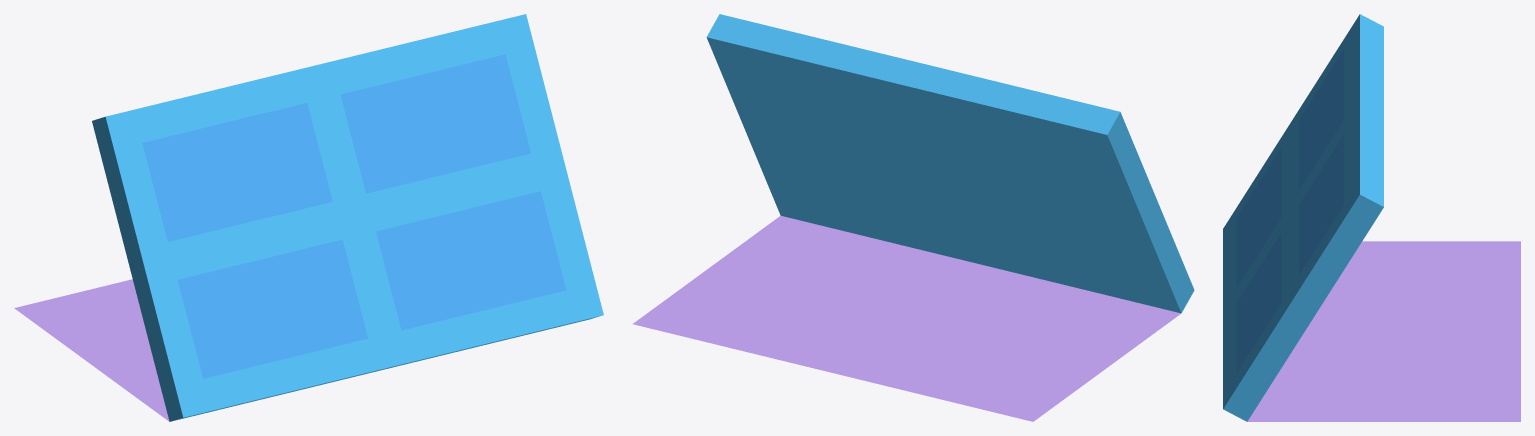
Rendered from Building_015_b.fbx.
3 renders of one model, left to right at view 1: azimuth 30°, elevation 25°; view 2: azimuth 150°, elevation 25°; view 3: azimuth 270°, elevation 25°, orthographic. The views are drawn at different scales.
Parts seen in each view (by area): view 1: Building_015_b; view 2: Building_015_b; view 3: Building_015_b.
Boxes of the visible parts, x1,y1,x2,y2 form: Building_015_b: (14, 14, 603, 421); Building_015_b: (632, 14, 1194, 421); Building_015_b: (1223, 14, 1520, 421).
Size of the model in its own units: 21.8 by 12.8 by 15.19.
